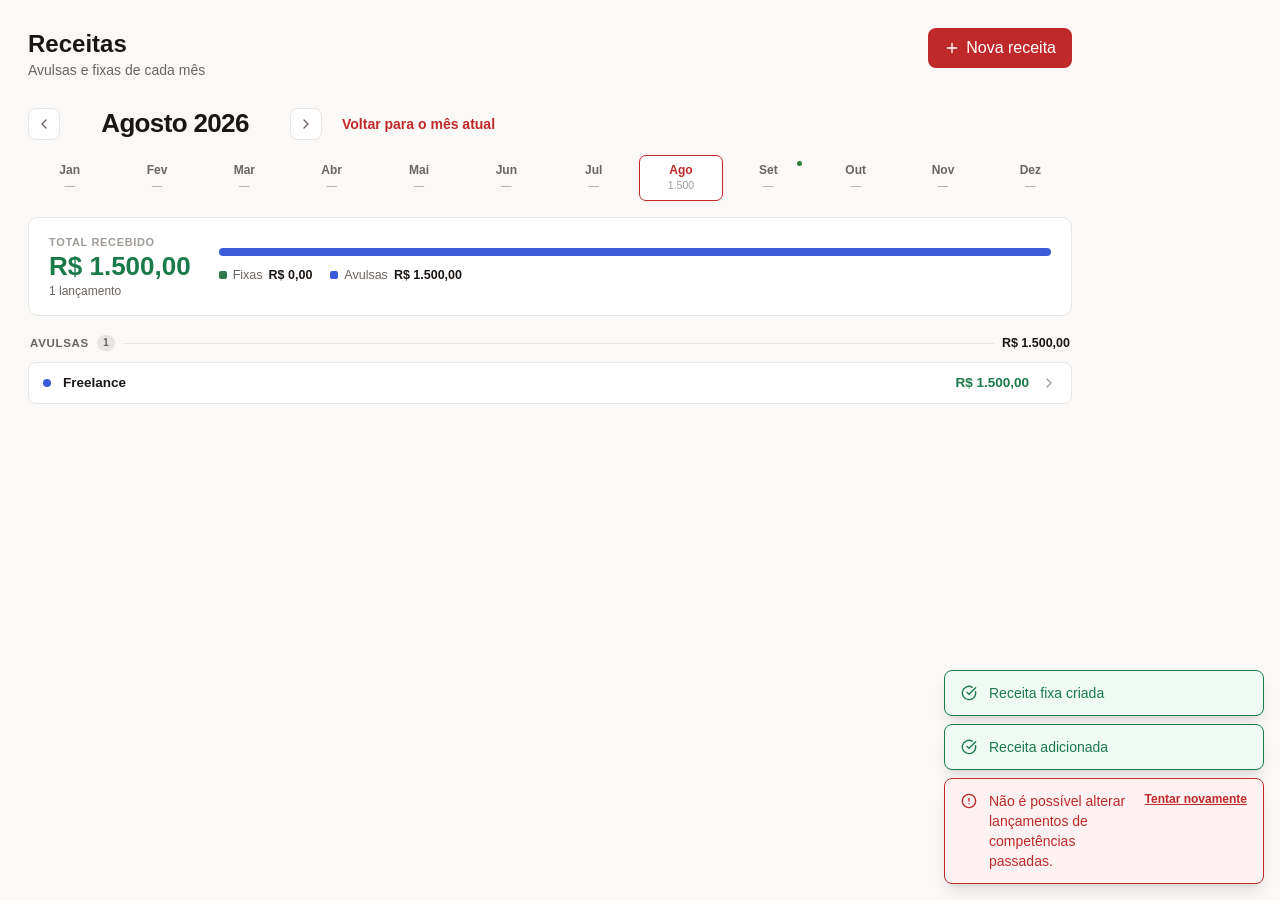
Scenario: página de receitas: Ficha de avulsa › avulsa passada não oferece Editar nem Remover
This screenshot has width=1280, height=900.
What coordinates should you click on to do the following:
click the button "Freelance R$ 1.500,00"
I would click on:
 (95, 382)
Its box is [28,362,1072,404].
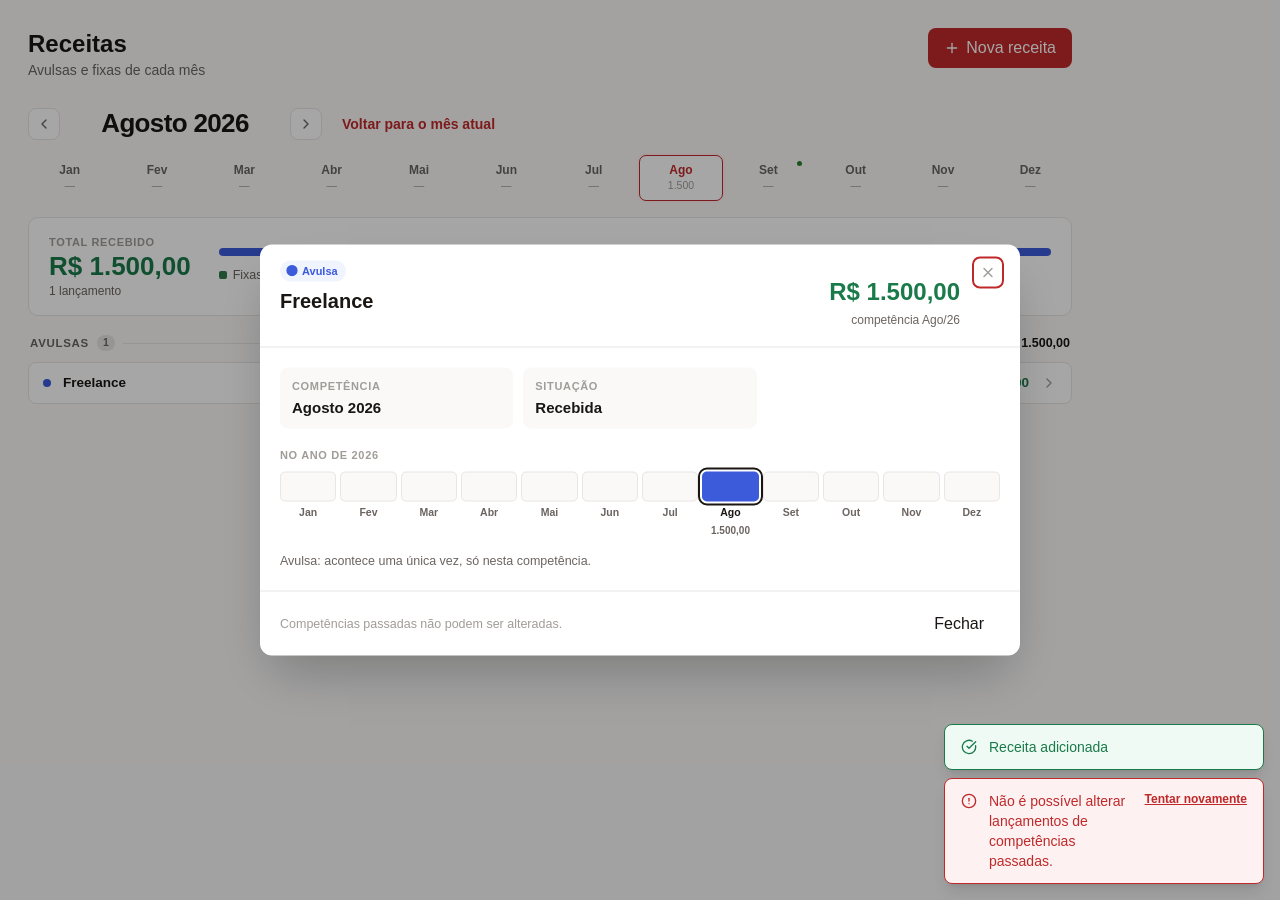
Now the text "Recebida" is shown, box [535,398,602,415]
